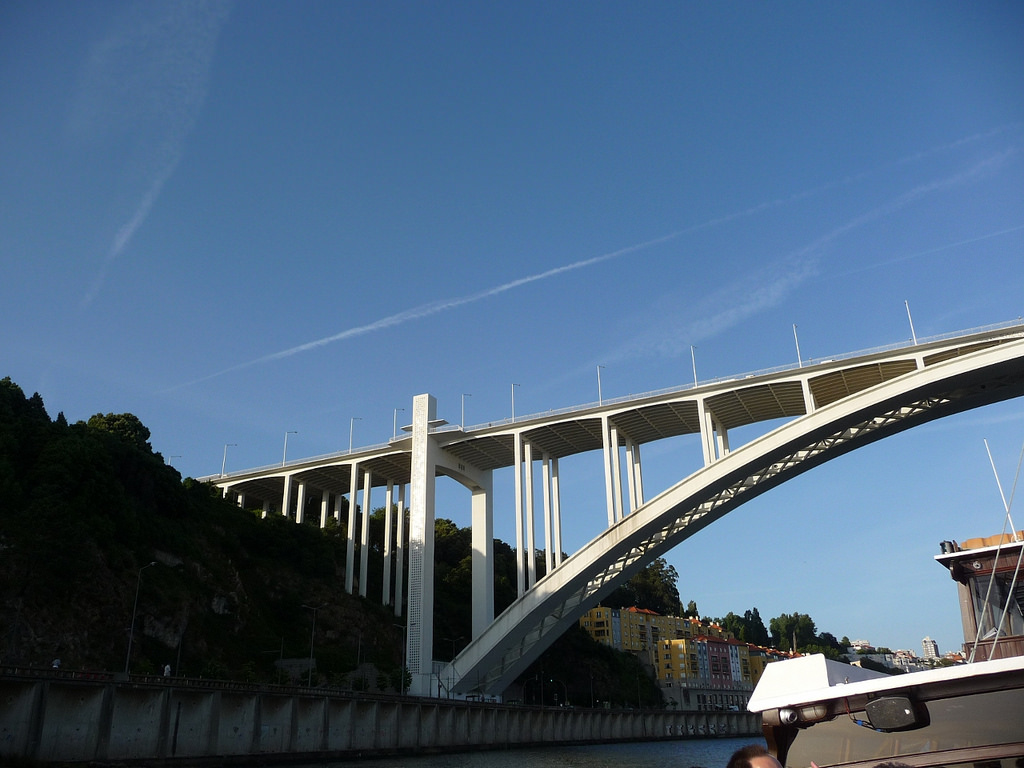arrabida: (203, 323, 1023, 705)
